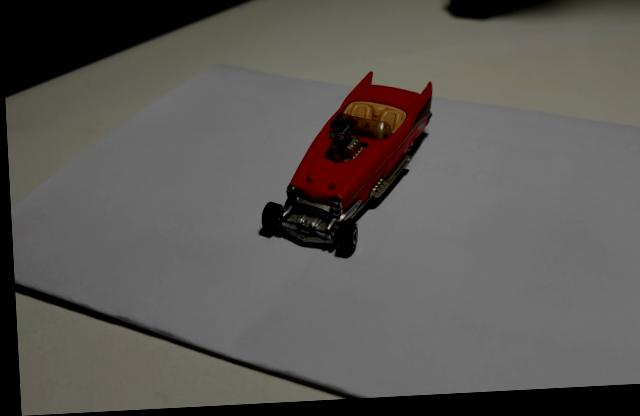03_V8: (256, 76, 433, 263)
